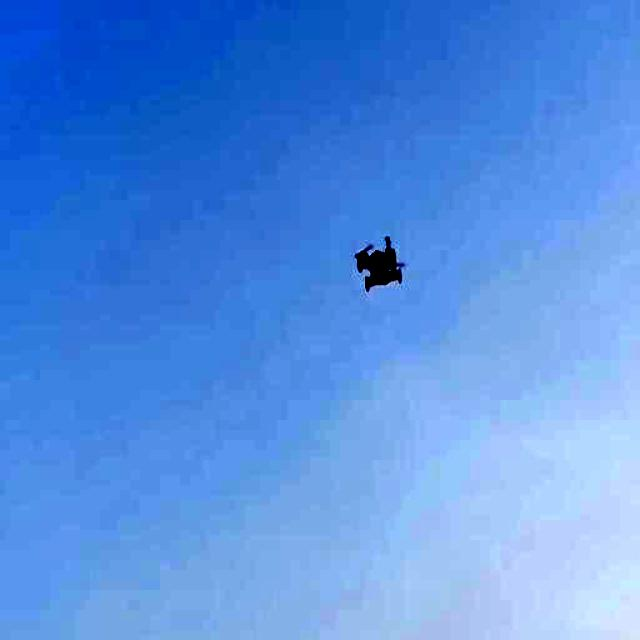bird: (350, 229, 410, 298)
